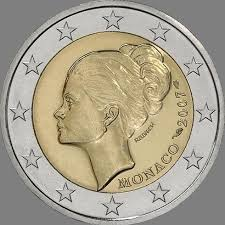eur002: (1, 1, 225, 224)
